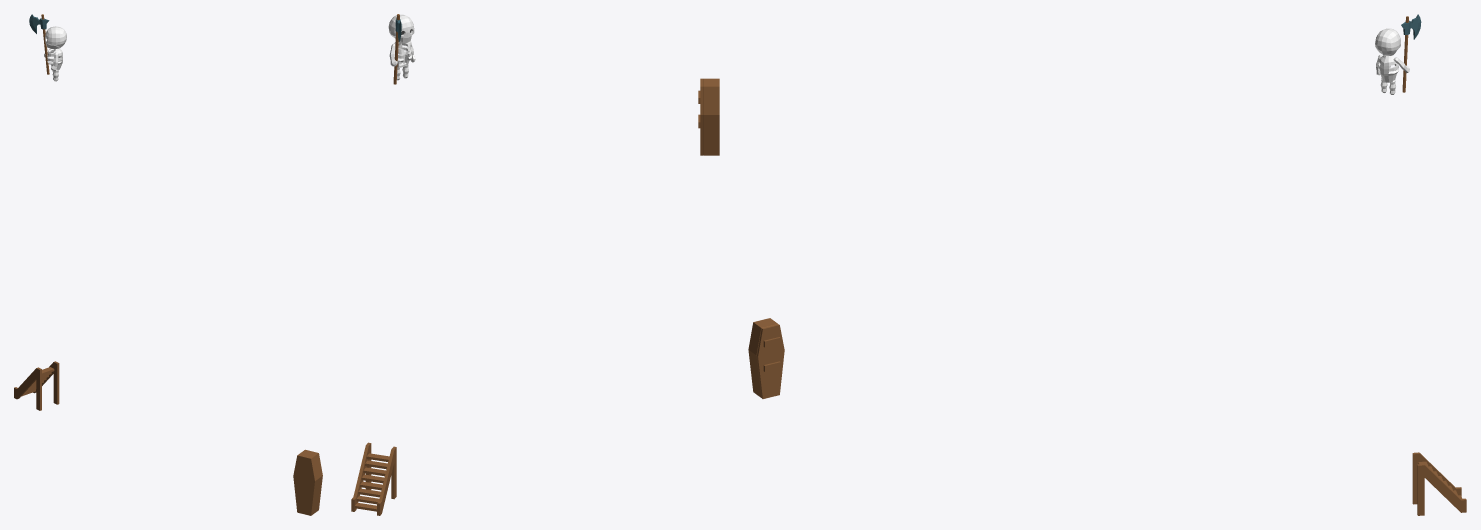
3 views of the same model, side by side, from view 1: azimuth 30°, elevation 25°; view 2: azimuth 150°, elevation 25°; view 3: azimuth 270°, elevation 25° (orthographic). The views are drawn at different scales.
Parts seen in each view (by area): view 1: Box808_brown_0, Plane301_brown_0, Head115_white_0; view 2: Plane301_brown_0, Box808_brown_0, Head115_white_0; view 3: Box808_brown_0, Plane301_brown_0.
Part boxes in pixels (<box>): Box808_brown_0: <box>293,449,322,515</box>; Plane301_brown_0: <box>14,361,59,410</box>; Head115_white_0: <box>45,26,66,49</box>; Plane301_brown_0: <box>351,442,396,515</box>; Box808_brown_0: <box>698,78,719,155</box>; Head115_white_0: <box>388,14,414,42</box>; Box808_brown_0: <box>748,318,784,398</box>; Plane301_brown_0: <box>1412,452,1466,515</box>.
Size of the model in its own units: 97.58 by 1287 by 1721.
